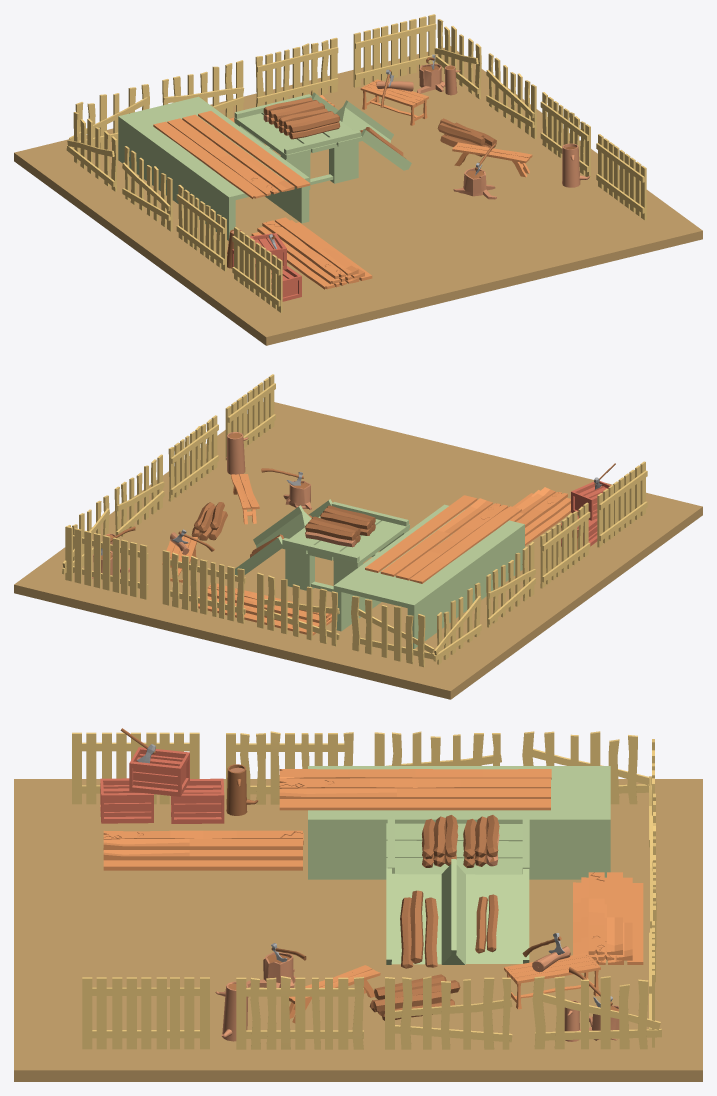
The model's file is bolum_sonu.fbx.
The picture shows the model from 3 angles, top to bottom: view 1: azimuth 30°, elevation 25°; view 2: azimuth 150°, elevation 25°; view 3: azimuth 270°, elevation 25°; orthographic projection. The views are drawn at different scales.
Visible parts, largest first — view 1: Cube.005, cit_3_.002, cit_3_, cit_3_.001, Cube.004, pasted__pCube40, Cube.008, pasted__pasted__Branch22.010, Cube.003, Cube.002, Cube, Cube.001 (+7 smaller); view 2: Cube.005, cit_3_.002, cit_3_, Cube.004, cit_3_.001, pasted__pCube40, pasted__pasted__Branch22.010, Cube.008, Cube.003, Cube.002, Cube, Cube.001 (+5 smaller); view 3: Cube.005, cit_3_.001, Cube.004, cit_3_, pasted__pCube40, pasted__pasted__Branch22.010, Cube.008, Cube.006, Cube.003, Cube.001, Cube.002, Cube (+9 smaller).
Part boxes in pixels (box(x1,y1,x2,y2)): Cube.005: box(14, 46, 702, 345); cit_3_.002: box(69, 14, 436, 153); cit_3_: box(66, 112, 282, 312); cit_3_.001: box(434, 19, 646, 220); Cube.004: box(118, 96, 309, 240); pasted__pCube40: box(234, 92, 411, 189); Cube.008: box(251, 217, 372, 289); pasted__pasted__Branch22.010: box(263, 97, 496, 158); Cube.003: box(198, 111, 310, 188); Cube.002: box(182, 114, 294, 191); Cube: box(153, 121, 265, 198); Cube.001: box(167, 118, 279, 195); Cube.005: box(14, 402, 702, 699); cit_3_.002: box(65, 526, 434, 667); cit_3_: box(433, 461, 647, 664); Cube.004: box(333, 504, 524, 648); cit_3_.001: box(62, 374, 275, 574); pasted__pCube40: box(235, 499, 409, 591); pasted__pasted__Branch22.010: box(191, 502, 375, 557); Cube.008: box(509, 487, 570, 545); Cube.003: box(365, 495, 477, 572); Cube.002: box(380, 498, 492, 576); Cube: box(409, 506, 521, 583); Cube.001: box(395, 503, 507, 580); Cube.005: box(14, 779, 702, 1081); cit_3_.001: box(82, 976, 661, 1049); Cube.004: box(308, 766, 610, 879); cit_3_: box(72, 731, 648, 804); pasted__pCube40: box(386, 817, 529, 964); pasted__pasted__Branch22.010: box(369, 815, 499, 1020); Cube.008: box(103, 830, 303, 870); Cube.006: box(573, 872, 643, 964); Cube.003: box(279, 799, 550, 810); Cube.001: box(279, 778, 550, 788); Cube.002: box(279, 788, 550, 798); Cube: box(279, 769, 551, 779).
Bounding box in the file's own units: 53088 × 8059 × 53088.
